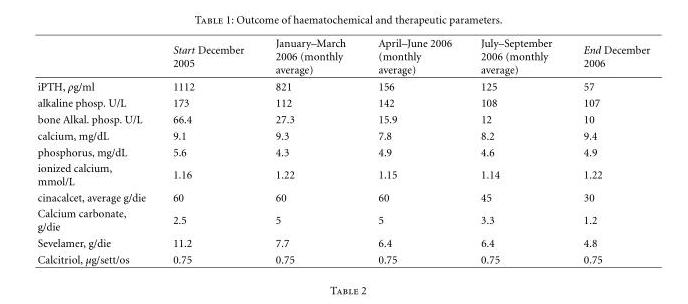table: (36, 36, 649, 265)
table column: (36, 36, 158, 265), (361, 36, 465, 265), (259, 36, 361, 265), (465, 36, 567, 265), (158, 36, 259, 265), (567, 36, 649, 265)
table column header: (36, 36, 649, 77)
table row: (36, 36, 649, 77), (36, 159, 649, 189), (36, 205, 649, 234), (36, 77, 649, 94), (36, 110, 649, 127), (36, 94, 649, 110), (36, 127, 649, 143), (36, 143, 649, 159), (36, 189, 649, 205), (36, 234, 649, 250), (36, 250, 649, 265)
